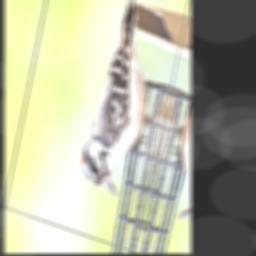Woodpecker: (75, 0, 174, 204)
